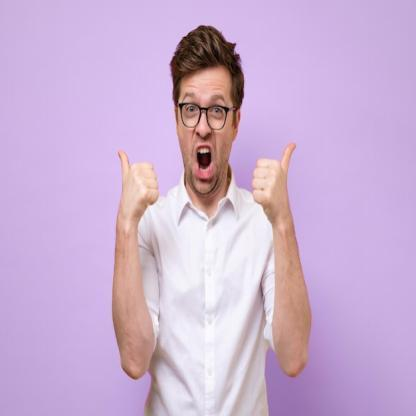thumb_up: (252, 136, 299, 217), (113, 146, 162, 219)
